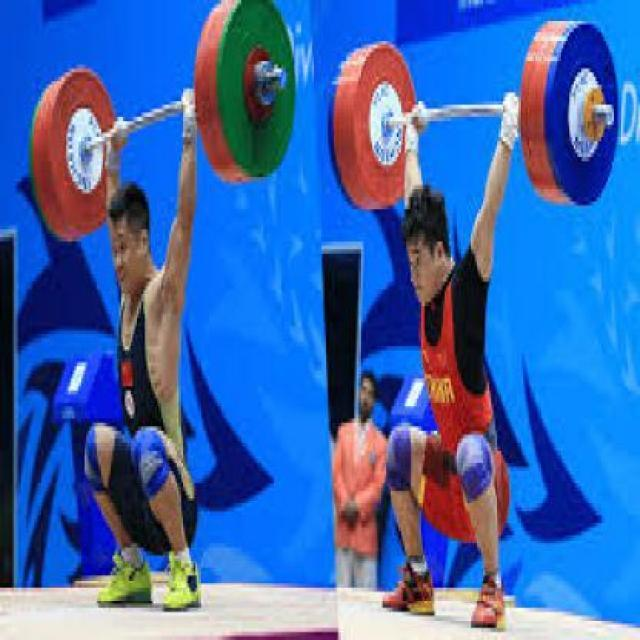Barbell: (273, 57, 290, 94), (602, 98, 616, 130)
